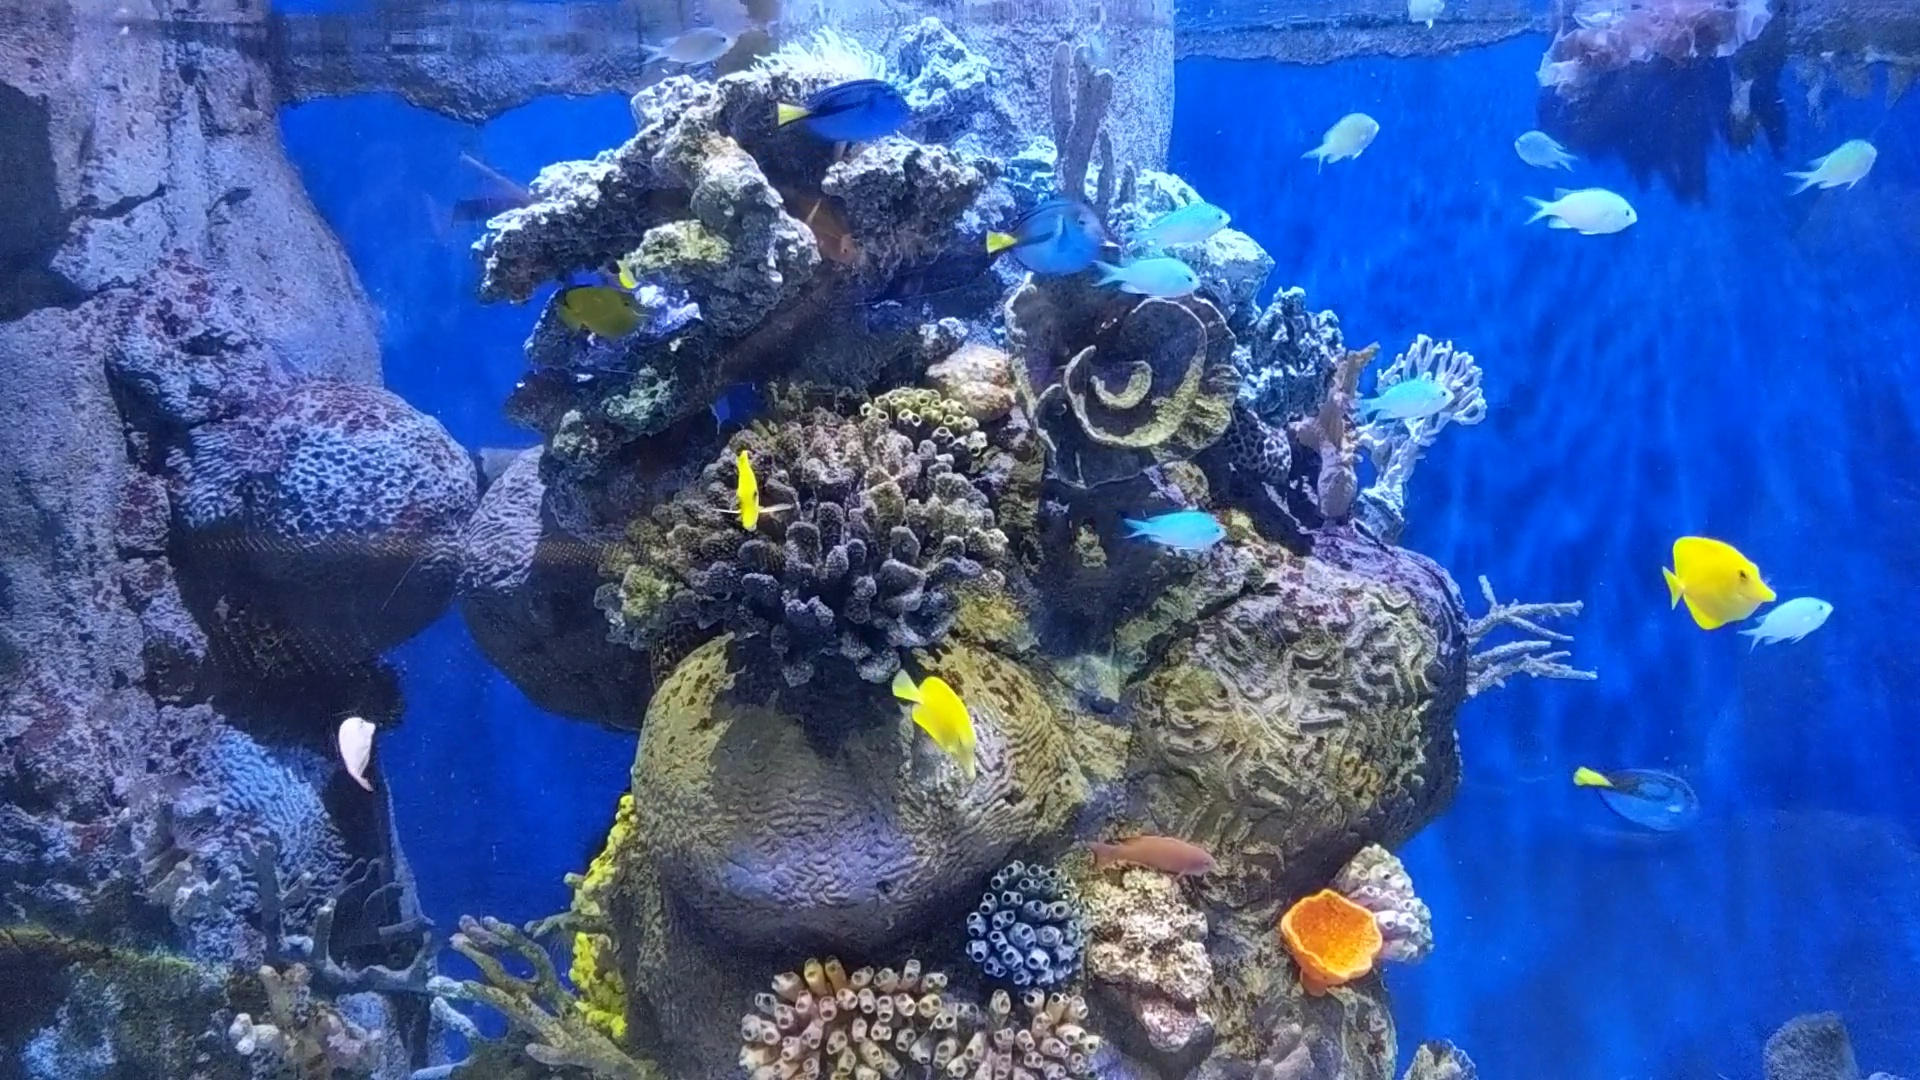blue tang surgeonfish: (1571, 760, 1704, 829), (773, 75, 923, 136), (982, 202, 1106, 272)
damselfish: (1093, 249, 1212, 309), (1524, 185, 1647, 236), (1787, 138, 1883, 196), (1118, 504, 1236, 551), (1345, 378, 1457, 426), (1124, 199, 1230, 248), (1745, 593, 1842, 646), (1302, 108, 1379, 171), (1069, 36, 1129, 109), (636, 22, 736, 62), (1513, 129, 1584, 183)
saddle butterfly fish: (1658, 530, 1775, 634), (889, 663, 982, 771), (551, 280, 661, 343), (721, 446, 773, 534)
